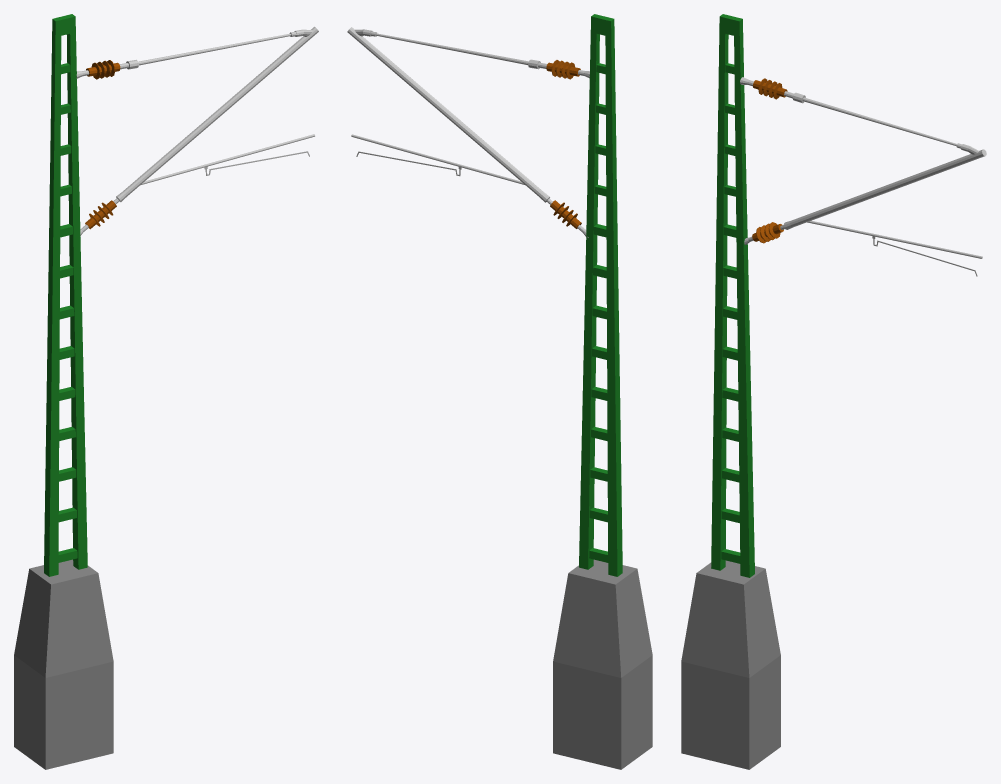
The model's file is pole.glb.
3 views of the same model, side by side, from view 1: azimuth 30°, elevation 25°; view 2: azimuth 150°, elevation 25°; view 3: azimuth 330°, elevation 25° (orthographic).
Parts seen in each view (by area): view 1: PoleRamp; view 2: PoleRamp; view 3: PoleRamp.
Boxes of the visible parts, left/top/right/bottom form: PoleRamp: left=14, top=14, right=318, bottom=769; PoleRamp: left=347, top=14, right=652, bottom=769; PoleRamp: left=681, top=14, right=986, bottom=769.
Size of the model in its own units: 4.03 by 9.79 by 0.7631.
